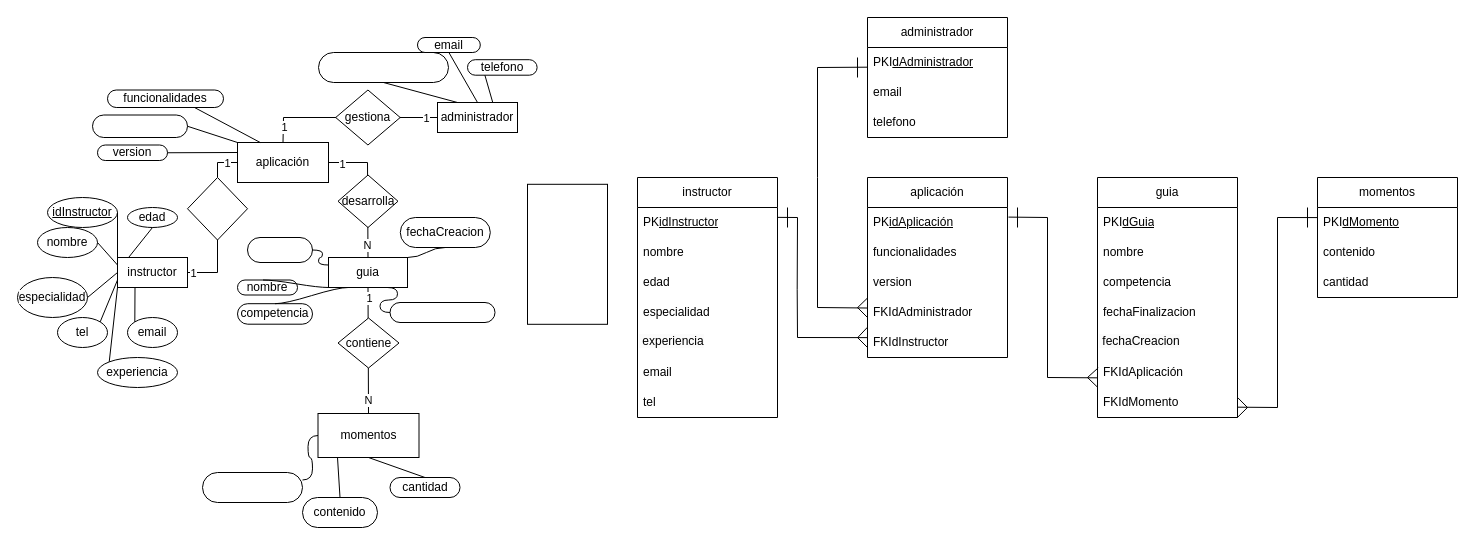
Image size: 1475x545. Some labels were removed from this diagram. Here are the shapes that lost their labels. From the top down, the box of each, then its label:
(318, 52, 448, 82): idAdministrador
(92, 114, 188, 138): idAplicación
(186, 176, 248, 240): usa
(246, 236, 312, 262): idGuia
(526, 183, 608, 324): Entidades Instructor guia momentos aprendiz administrador aplicativo
(389, 302, 495, 322): fechaFinalización
(202, 472, 302, 502): idMomento
